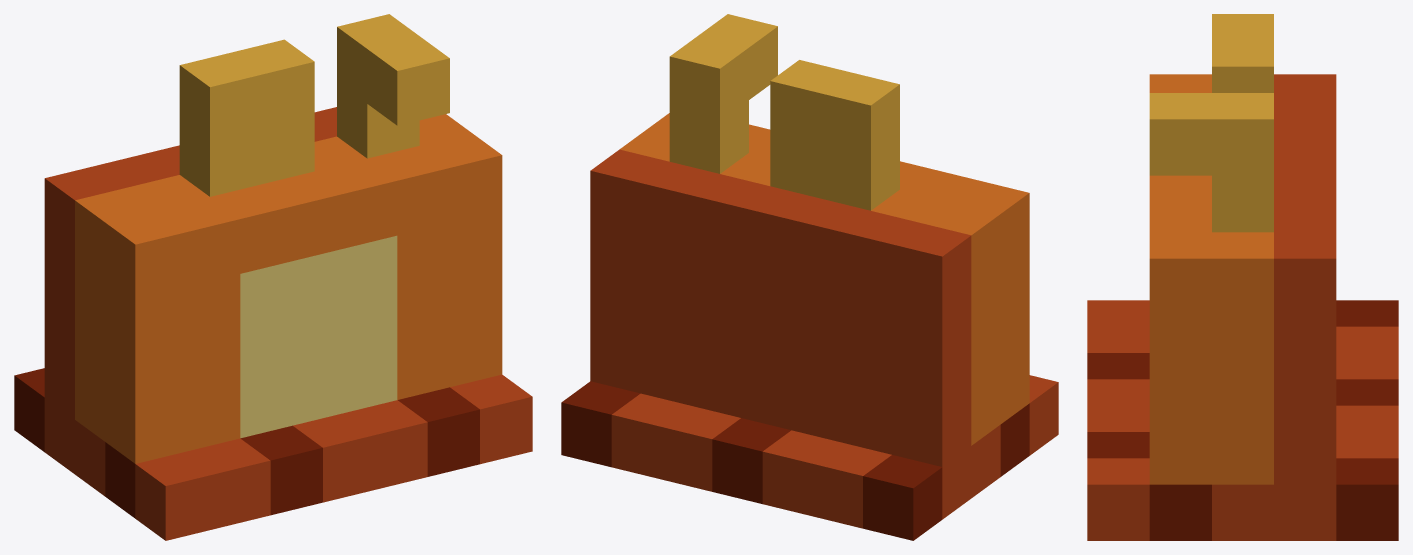
File: flame_03.glb
3 renders of one model, left to right at view 1: azimuth 30°, elevation 25°; view 2: azimuth 150°, elevation 25°; view 3: azimuth 270°, elevation 25°, orthographic. The views are drawn at different scales.
Visible parts, largest first — view 1: flame_03; view 2: flame_03; view 3: flame_03.
Part boxes in pixels (bbox=[...]): flame_03: bbox=[14, 14, 532, 540]; flame_03: bbox=[561, 14, 1058, 540]; flame_03: bbox=[1087, 14, 1398, 540].
Bounding box in the file's own units: 0.875 × 0.875 × 0.625.
